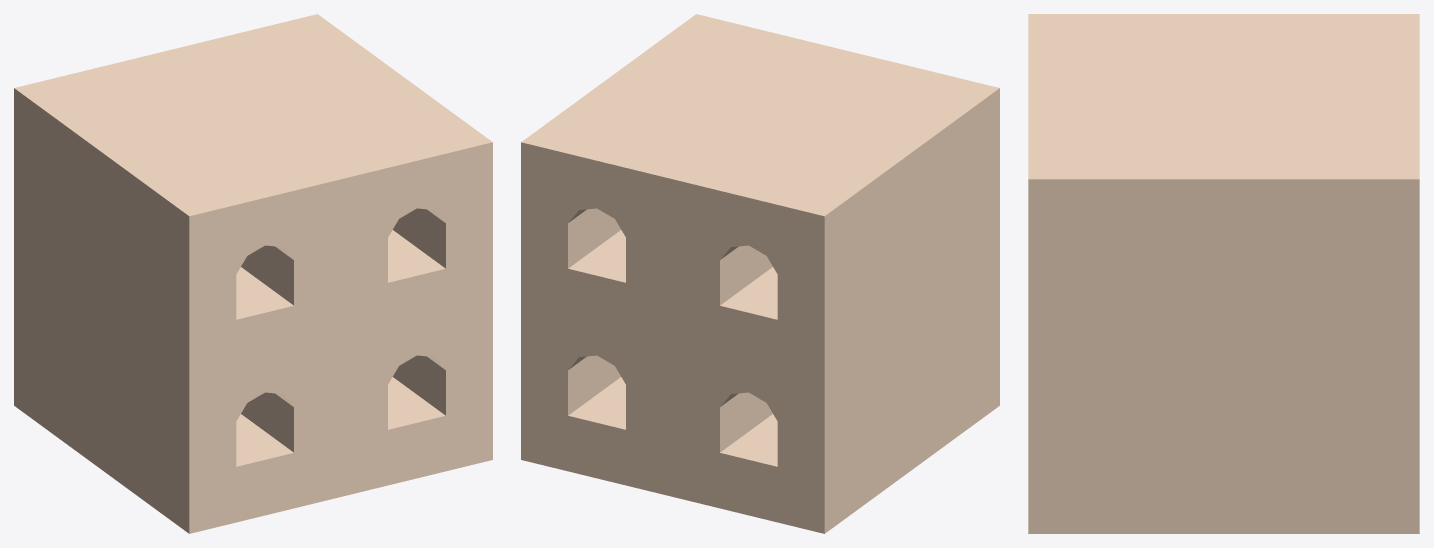
Rendered from Abstract_Modular_Window_Quad_1.0_Beige_01.fbx.
3 views of the same model, side by side, from view 1: azimuth 30°, elevation 25°; view 2: azimuth 150°, elevation 25°; view 3: azimuth 270°, elevation 25° (orthographic). The views are drawn at different scales.
Parts seen in each view (by area): view 1: Abstract_Modular_Window_Quad_1.0_Beige_01; view 2: Abstract_Modular_Window_Quad_1.0_Beige_01; view 3: Abstract_Modular_Window_Quad_1.0_Beige_01.
Boxes of the visible parts, x1,y1,x2,y2 form: Abstract_Modular_Window_Quad_1.0_Beige_01: [14, 14, 492, 533]; Abstract_Modular_Window_Quad_1.0_Beige_01: [521, 14, 999, 533]; Abstract_Modular_Window_Quad_1.0_Beige_01: [1028, 14, 1419, 533].
Bounding box in the file's own units: 3000 × 3000 × 3000.
